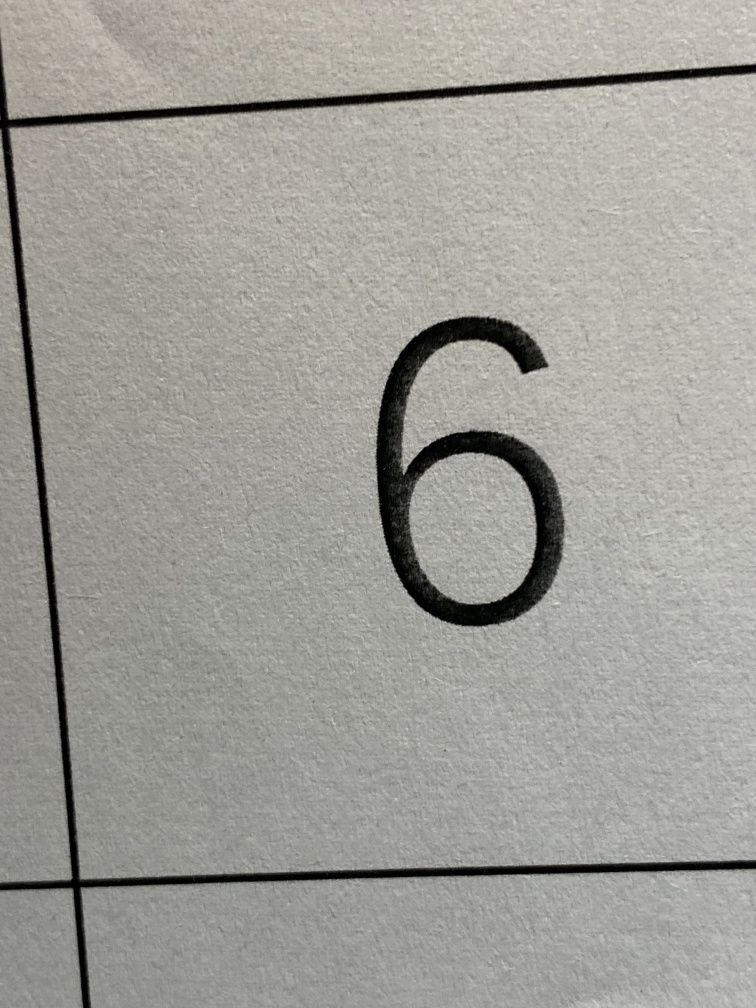six: (304, 269, 621, 674)
